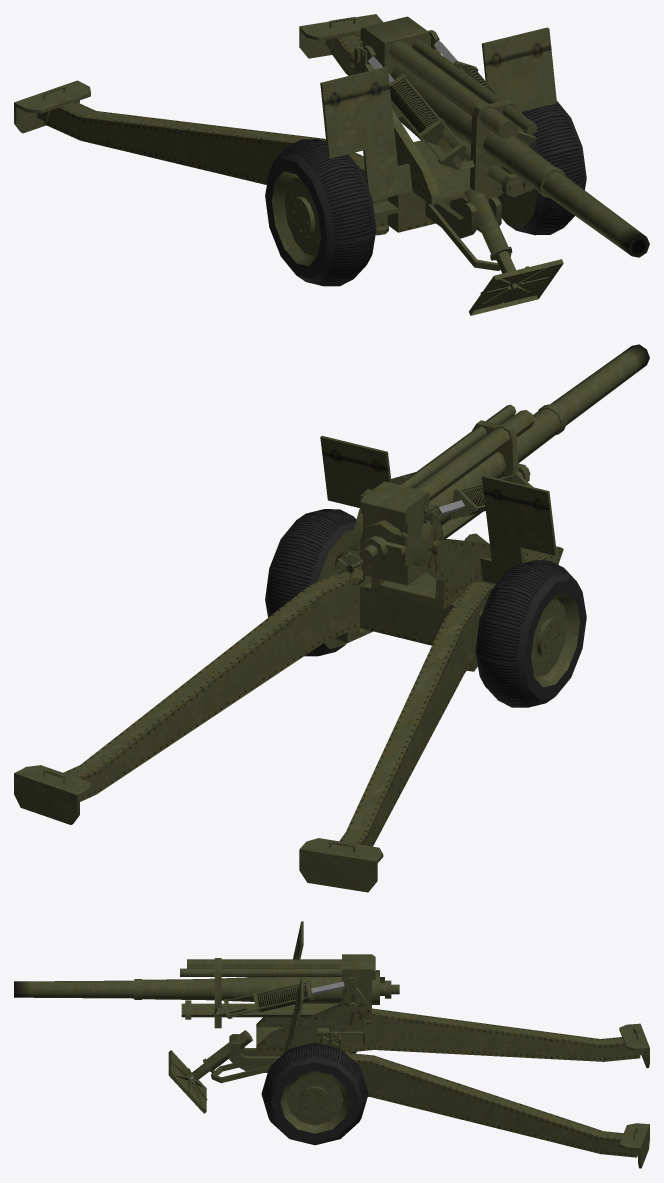
Rendered from USM1_45inGun.dae.
The picture shows the model from 3 angles, top to bottom: view 1: azimuth 30°, elevation 25°; view 2: azimuth 150°, elevation 25°; view 3: azimuth 270°, elevation 25°; orthographic projection. The views are drawn at different scales.
Parts seen in each view (by area): view 1: wheels, turret, trail2, sleeve, barrel, carriage, cylynder1, pad, spade2, spade1, support2, trail1 (+2 smaller); view 2: wheels, trail1, turret, trail2, sleeve, barrel, spade2, carriage, spade1, cylynder1; view 3: trail2, trail1, wheels, barrel, sleeve, turret, cylynder1, pad, carriage, spade1, support2, spade2 (+1 smaller).
Boxes of the visible parts, box(x1,y1,x2,y2) form: wheels: box(265, 100, 586, 286); turret: box(320, 27, 556, 205); trail2: box(44, 102, 388, 235); sleeve: box(360, 16, 537, 197); barrel: box(350, 42, 649, 257); carriage: box(372, 190, 503, 238); cylynder1: box(389, 60, 536, 170); pad: box(469, 259, 563, 315); spade2: box(14, 80, 90, 133); spade1: box(299, 14, 382, 58); support2: box(464, 188, 515, 273); trail1: box(330, 34, 421, 140); wheels: box(265, 509, 586, 707); trail1: box(63, 563, 373, 801); turret: box(320, 435, 556, 609); trail2: box(339, 582, 490, 846); sleeve: box(360, 404, 534, 585); barrel: box(359, 344, 649, 566); spade2: box(299, 838, 383, 892); carriage: box(360, 537, 492, 645); spade1: box(14, 765, 90, 824); cylynder1: box(388, 472, 533, 519); trail2: box(341, 1008, 640, 1061); trail1: box(345, 1052, 637, 1157); wheels: box(261, 1042, 368, 1145); barrel: box(14, 970, 399, 1004); sleeve: box(180, 954, 375, 1028); turret: box(256, 921, 371, 1055); cylynder1: box(214, 977, 314, 1018); pad: box(168, 1050, 207, 1113); carriage: box(229, 1034, 281, 1072); spade1: box(619, 1123, 649, 1168); support2: box(191, 1030, 252, 1080); spade2: box(619, 1023, 649, 1068).
Bounding box in the file's own units: 28.8 × 62.09 × 15.96.
